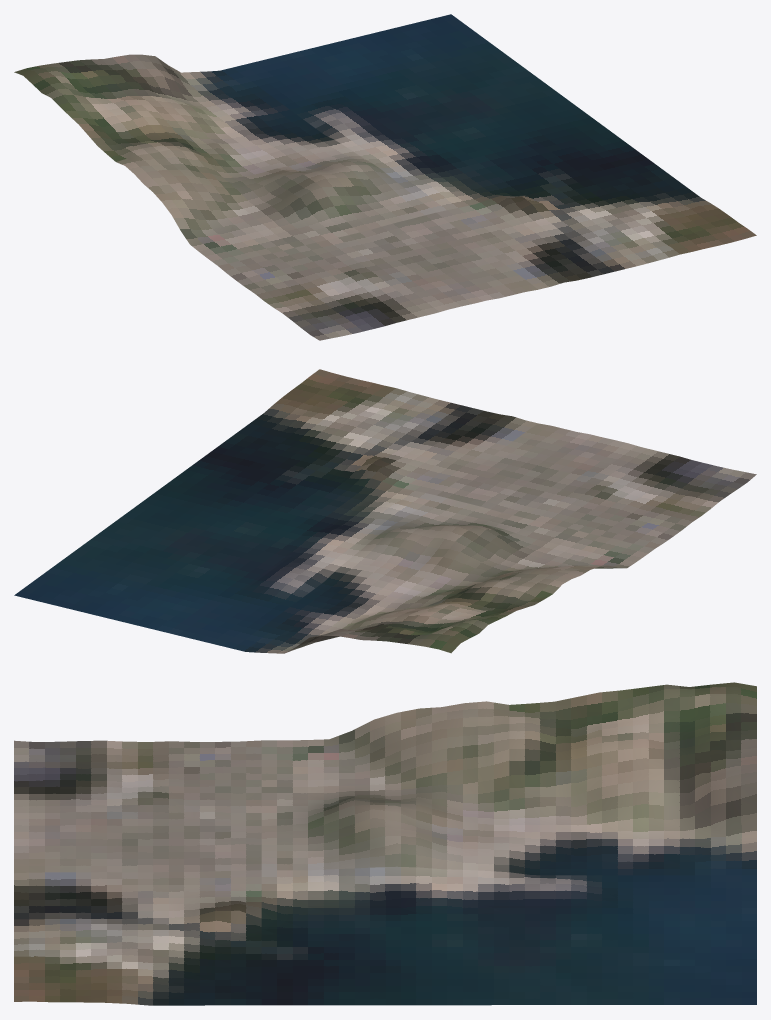
File: tsunami_v7.gltf
3 views of the same model, one above another, from view 1: azimuth 30°, elevation 25°; view 2: azimuth 150°, elevation 25°; view 3: azimuth 270°, elevation 25° (orthographic). The views are drawn at different scales.
Parts seen in each view (by area): view 1: TerrainNode; view 2: TerrainNode; view 3: TerrainNode.
Boxes of the visible parts, left/top/right/bottom form: TerrainNode: left=14, top=14, right=756, bottom=340; TerrainNode: left=14, top=369, right=756, bottom=653; TerrainNode: left=14, top=682, right=756, bottom=1005.
Bounding box in the file's own units: 7.79 × 0.933 × 9.43.
Materials: 1 (1 with a texture image).
